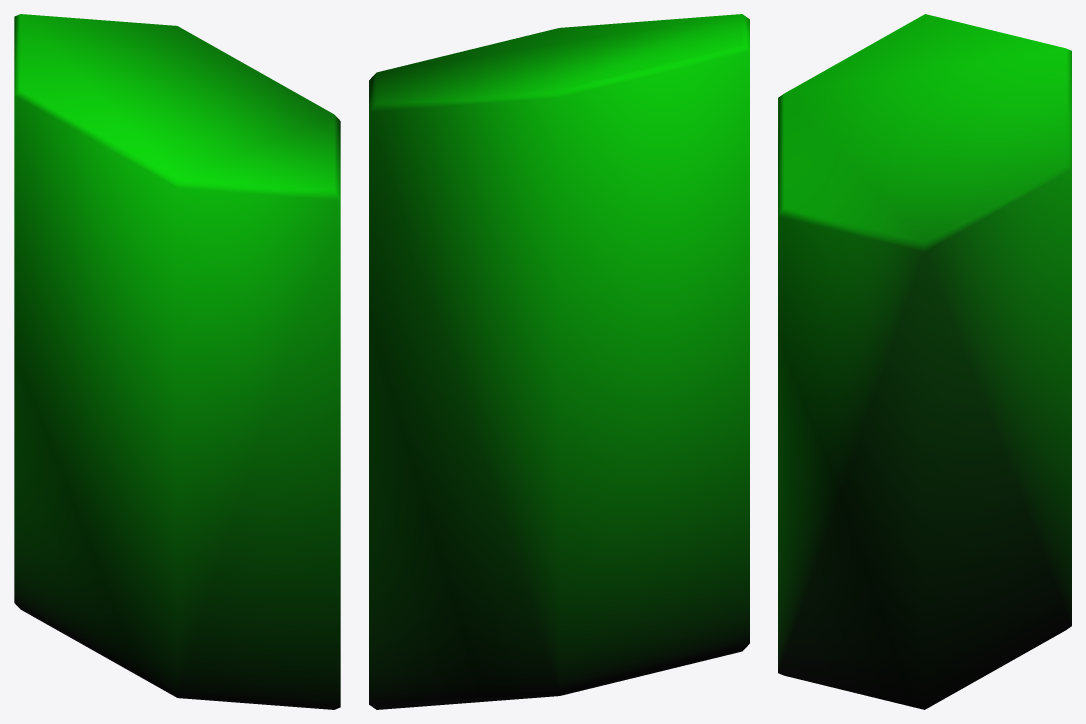
Rendered from SM_RockHexic_Piece07.fbx.
3 renders of one model, left to right at view 1: azimuth 30°, elevation 25°; view 2: azimuth 150°, elevation 25°; view 3: azimuth 270°, elevation 25°, orthographic. The views are drawn at different scales.
Parts seen in each view (by area): view 1: SM_RockHexic_Piece07; view 2: SM_RockHexic_Piece07; view 3: SM_RockHexic_Piece07.
Boxes of the visible parts, left/top/right/bottom form: SM_RockHexic_Piece07: left=14, top=14, right=340, bottom=709; SM_RockHexic_Piece07: left=369, top=14, right=749, bottom=709; SM_RockHexic_Piece07: left=778, top=14, right=1071, bottom=709.
Size of the model in its own units: 360 by 312 by 655.
